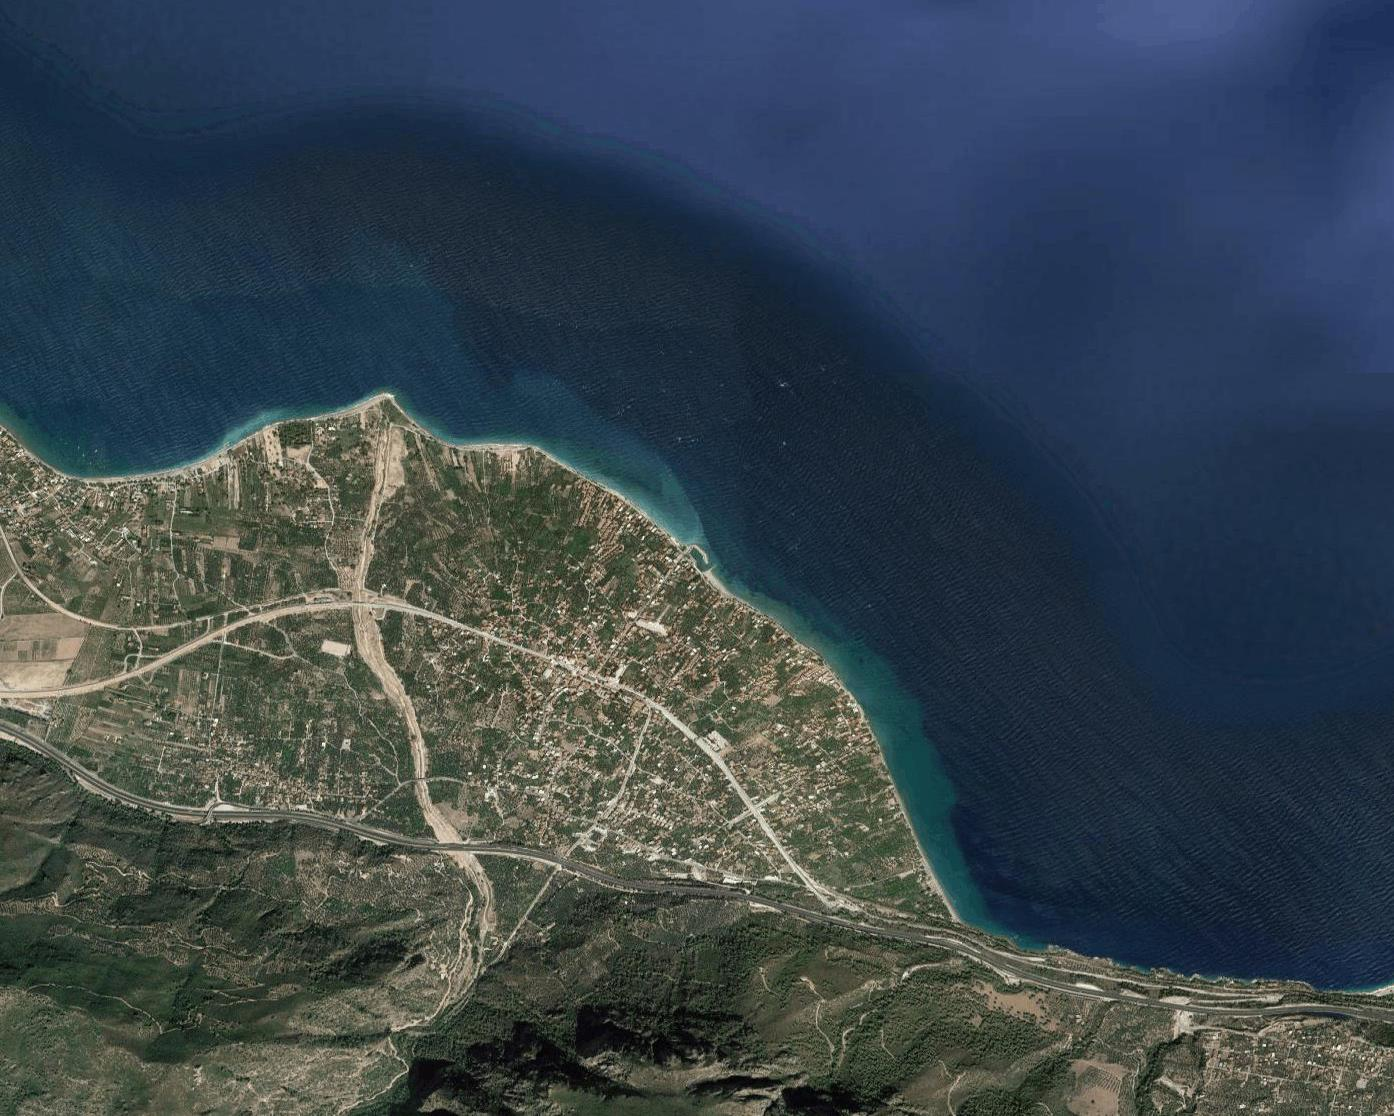harbor: (676, 538, 720, 580)
motorway: (1, 722, 136, 804), (1085, 988, 1394, 1023), (731, 889, 911, 942), (916, 935, 1076, 992), (543, 853, 733, 898), (342, 820, 541, 857), (137, 798, 341, 829)
